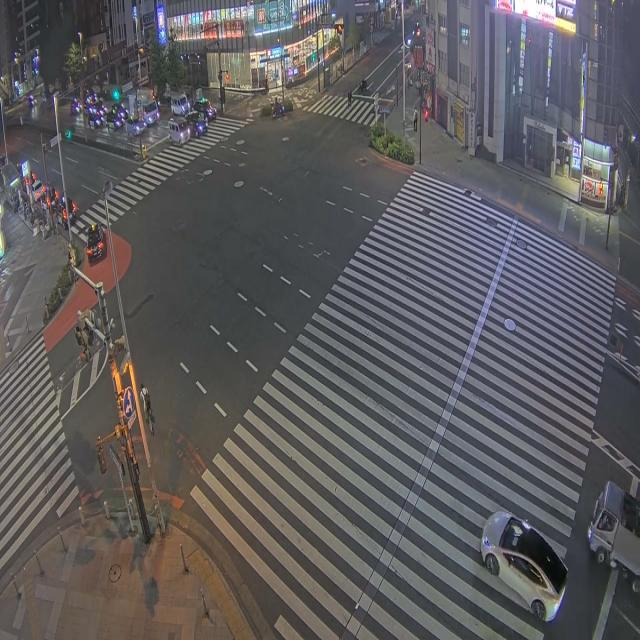car: (481, 512, 567, 621), (86, 224, 105, 262), (185, 112, 207, 137), (193, 98, 216, 121), (143, 100, 159, 126), (53, 203, 68, 228), (106, 108, 123, 130), (125, 118, 144, 135), (32, 180, 46, 202), (89, 101, 107, 118), (88, 113, 103, 128), (115, 103, 128, 120), (70, 98, 82, 114)
motorcycle: (272, 103, 284, 118), (360, 79, 368, 93), (29, 96, 34, 109)
truck: (588, 481, 639, 592), (127, 88, 159, 125)
van: (169, 119, 190, 145), (170, 94, 190, 115)
